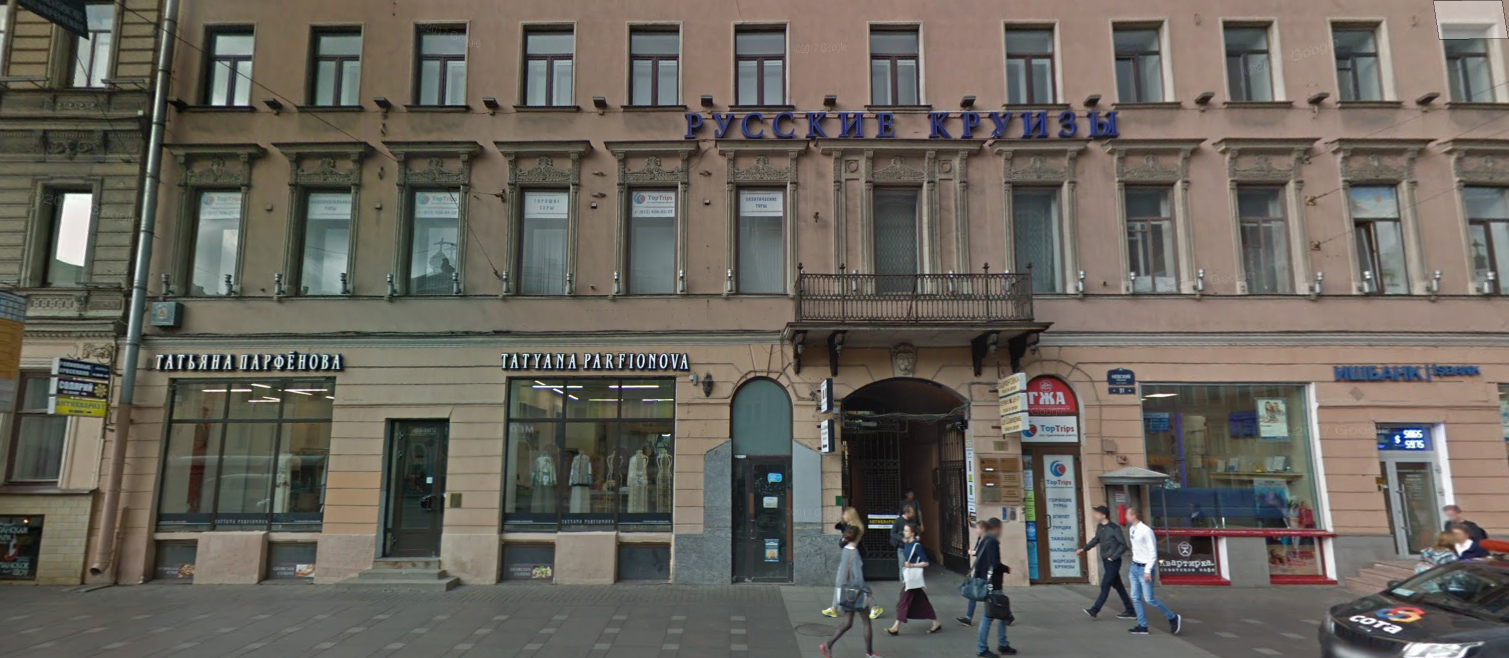arch: (834, 373, 983, 588)
cantilever: (45, 352, 123, 428), (985, 373, 1040, 444), (807, 373, 846, 460)
door: (1375, 427, 1455, 568), (1020, 446, 1082, 585), (386, 419, 443, 557), (731, 453, 792, 577)
signboard: (682, 95, 1125, 145), (150, 339, 358, 377), (493, 341, 701, 376), (1328, 358, 1483, 386)
window: (1145, 380, 1331, 534), (502, 378, 673, 531), (165, 377, 323, 527), (1009, 183, 1077, 299), (1231, 180, 1297, 299), (613, 15, 685, 111), (1352, 181, 1412, 296), (406, 188, 469, 297), (1121, 182, 1185, 289), (406, 20, 474, 115), (517, 191, 575, 302), (288, 188, 346, 296), (1108, 22, 1176, 111), (297, 24, 367, 110), (516, 16, 579, 110), (626, 190, 680, 297), (35, 185, 91, 288), (185, 187, 237, 296), (51, 1, 120, 83), (733, 185, 783, 298), (867, 186, 919, 294), (1220, 21, 1283, 104), (867, 26, 927, 111), (1003, 23, 1063, 108), (1328, 18, 1387, 104), (733, 21, 790, 109), (1445, 19, 1496, 116), (200, 23, 258, 107)
